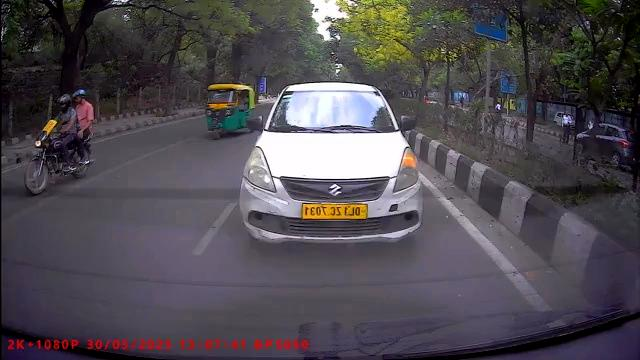passenger_with_helmet: (23, 88, 93, 195)
